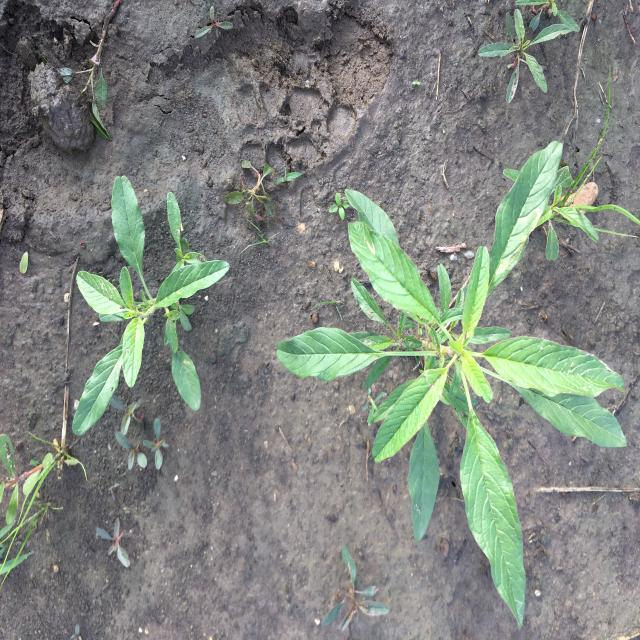Waterhemp: (274, 138, 630, 632), (70, 173, 232, 438), (476, 5, 577, 107)
